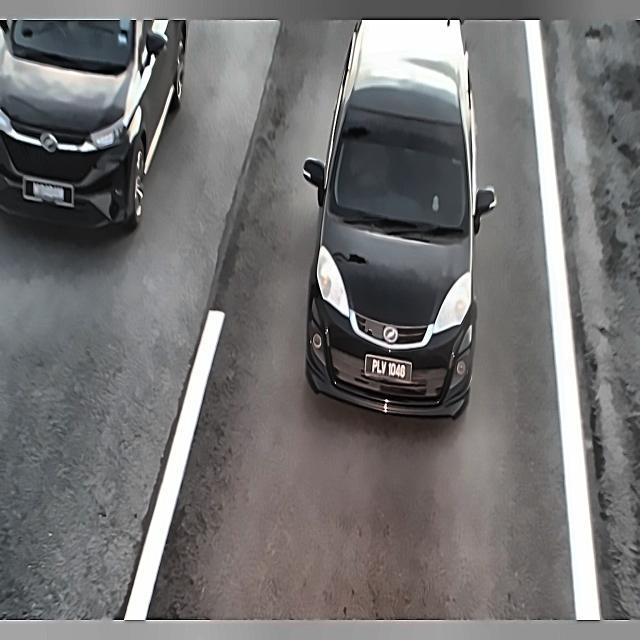car: (360, 348, 417, 388), (20, 176, 81, 208)
